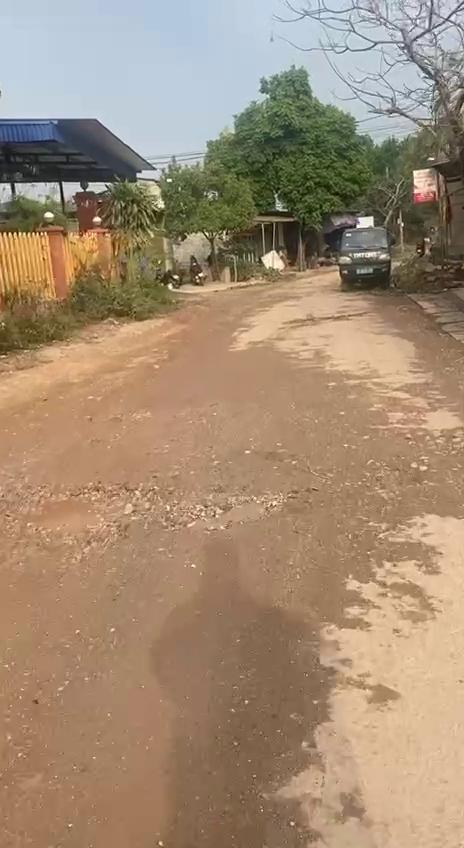pothole: (10, 483, 155, 559), (177, 487, 294, 530)
